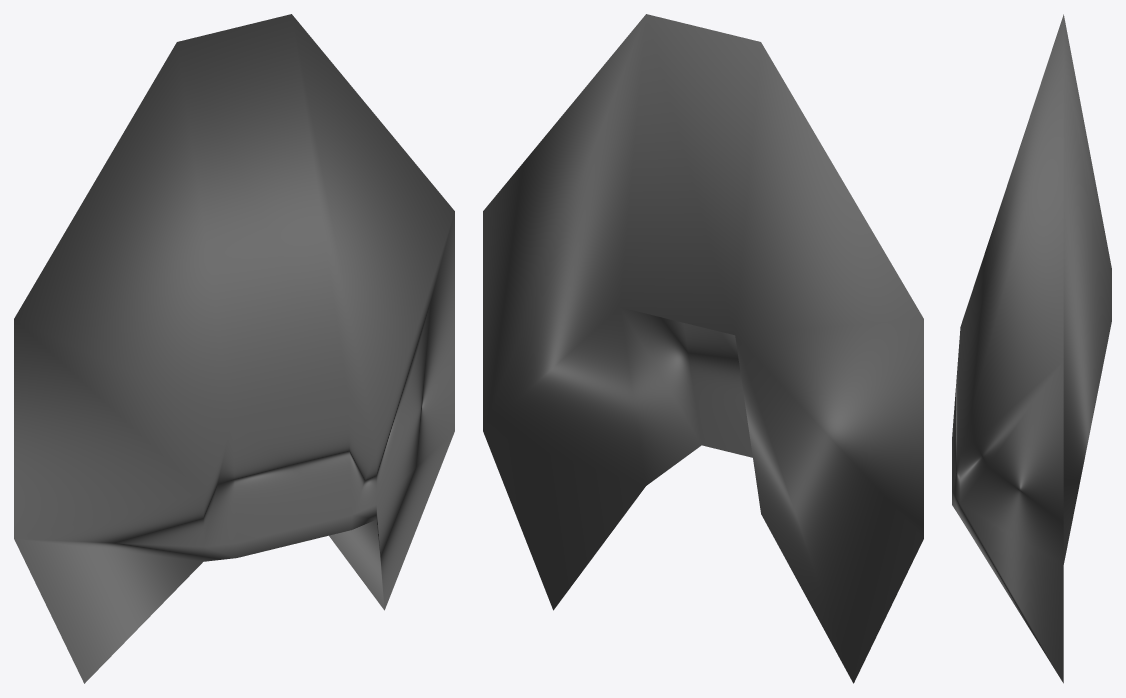
File: bunker.fbx
3 renders of one model, left to right at view 1: azimuth 30°, elevation 25°; view 2: azimuth 150°, elevation 25°; view 3: azimuth 270°, elevation 25°, orthographic. The views are drawn at different scales.
Parts seen in each view (by area): view 1: Cube; view 2: Cube; view 3: Cube.
Part boxes in pixels (x1,y1,x2,y2): Cube: (14, 14, 454, 683); Cube: (483, 14, 923, 683); Cube: (952, 14, 1111, 683).
Bounding box in the file's own units: 93.82 × 126 × 31.71.
1 material, 1 textured.
